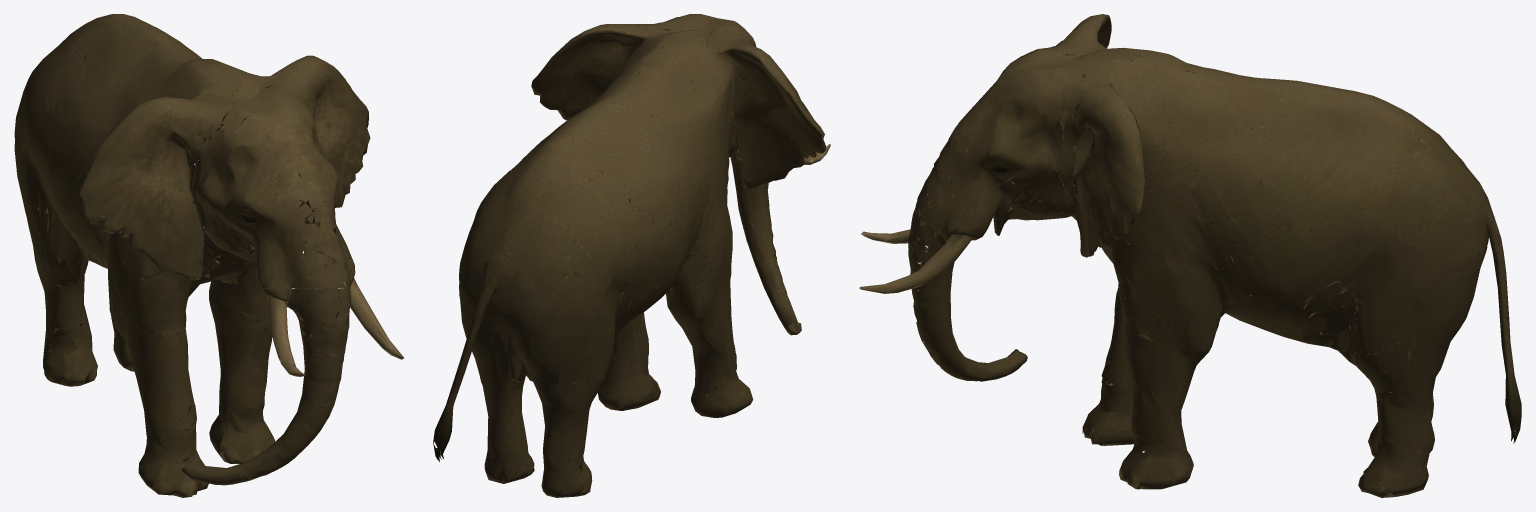
File: elefant.glb
3 renders of one model, left to right at view 1: azimuth 30°, elevation 25°; view 2: azimuth 150°, elevation 25°; view 3: azimuth 270°, elevation 25°, orthographic. The views are drawn at different scales.
Bounding box in the file's own units: 1.04 × 1.28 × 1.9.
1 material, 1 textured.
